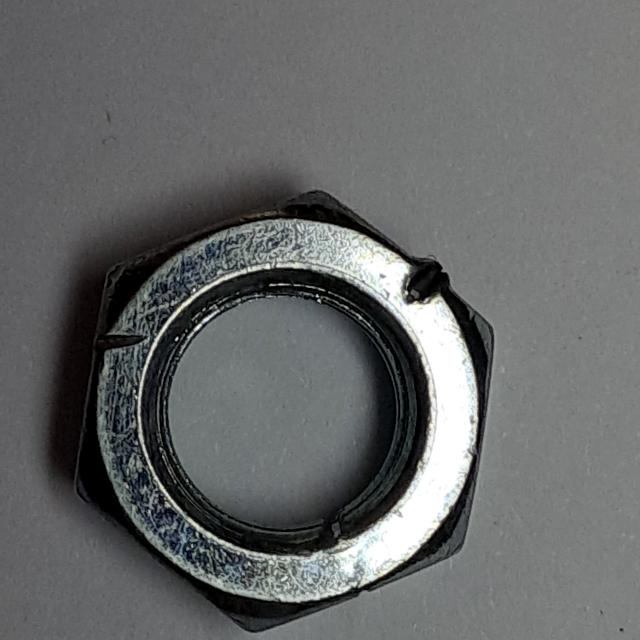Scratches: (66, 177, 510, 640)
